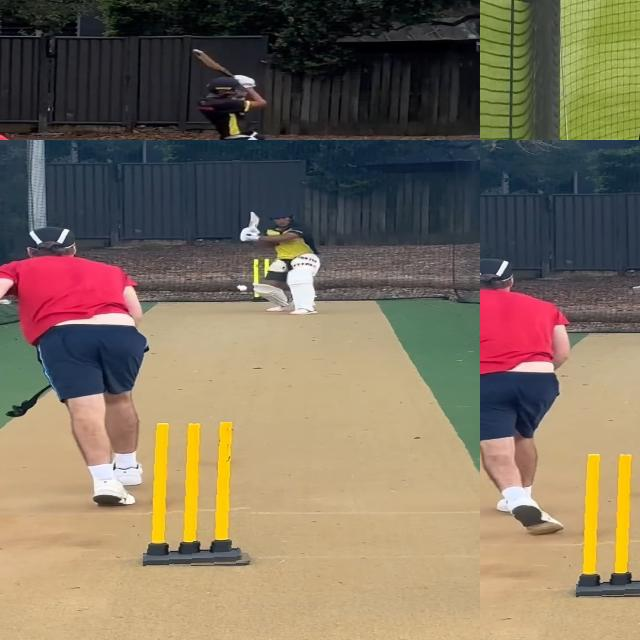Cricket ball: (235, 283, 249, 291)
Stumps: (143, 422, 257, 568), (576, 454, 640, 597)
